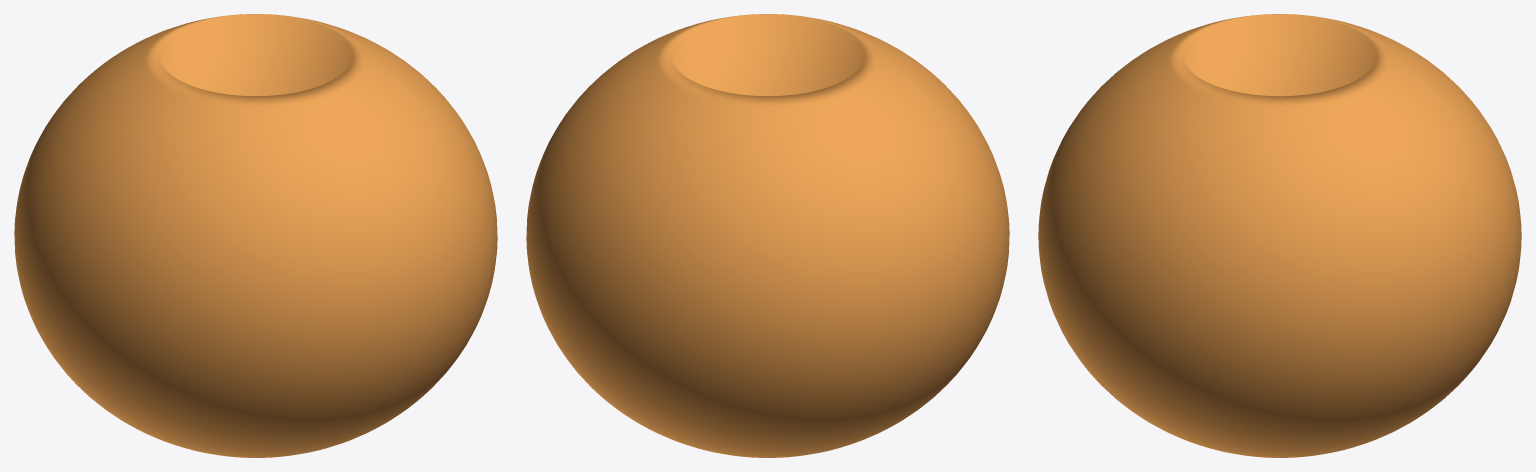
The model's file is spacer-303-glass.glb.
The picture shows the model from 3 angles, left to right: view 1: azimuth 30°, elevation 25°; view 2: azimuth 150°, elevation 25°; view 3: azimuth 270°, elevation 25°; orthographic projection.
Visible parts, largest first — view 1: Spacer with through bore.002; view 2: Spacer with through bore.002; view 3: Spacer with through bore.002.
Part boxes in pixels (x1,y1,x2,y2): Spacer with through bore.002: (14,14,497,457); Spacer with through bore.002: (526,14,1009,457); Spacer with through bore.002: (1038,14,1521,457).
Bounding box in the file's own units: 0.002 × 0.00165 × 0.002.
